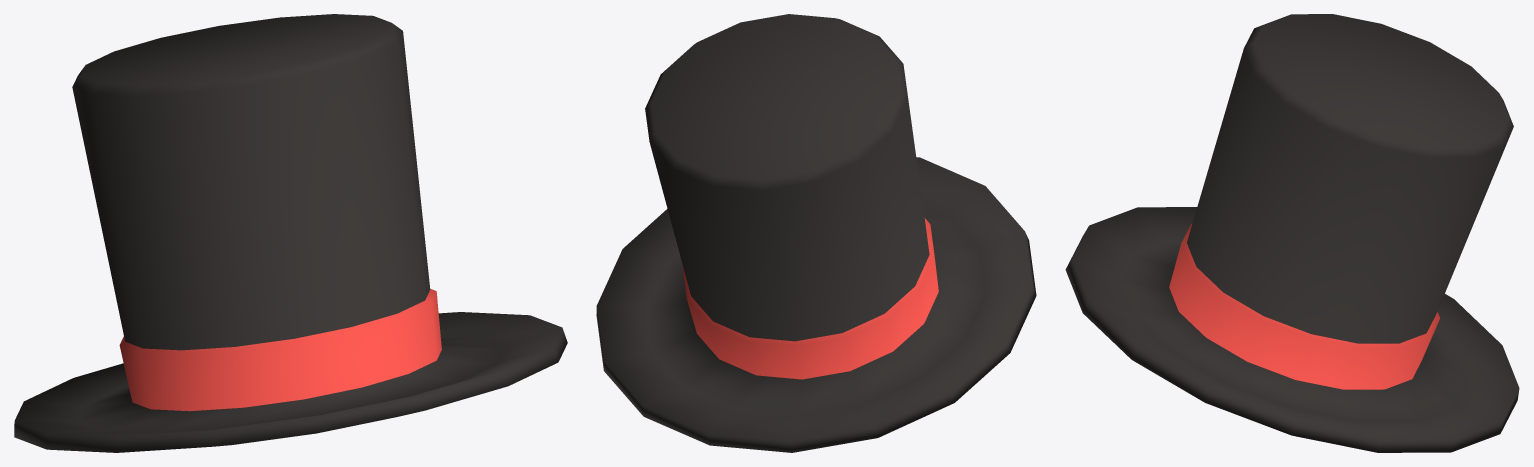
Rendered from tophat.fbx.
The picture shows the model from 3 angles, left to right: view 1: azimuth 30°, elevation 25°; view 2: azimuth 150°, elevation 25°; view 3: azimuth 270°, elevation 25°; orthographic projection. The views are drawn at different scales.
Parts seen in each view (by area): view 1: tophat; view 2: tophat; view 3: tophat.
Part boxes in pixels (x1,y1,x2,y2): tophat: (14, 14, 567, 452); tophat: (596, 14, 1036, 452); tophat: (1065, 14, 1519, 452).
Size of the model in its own units: 33.84 by 28.06 by 32.36.
